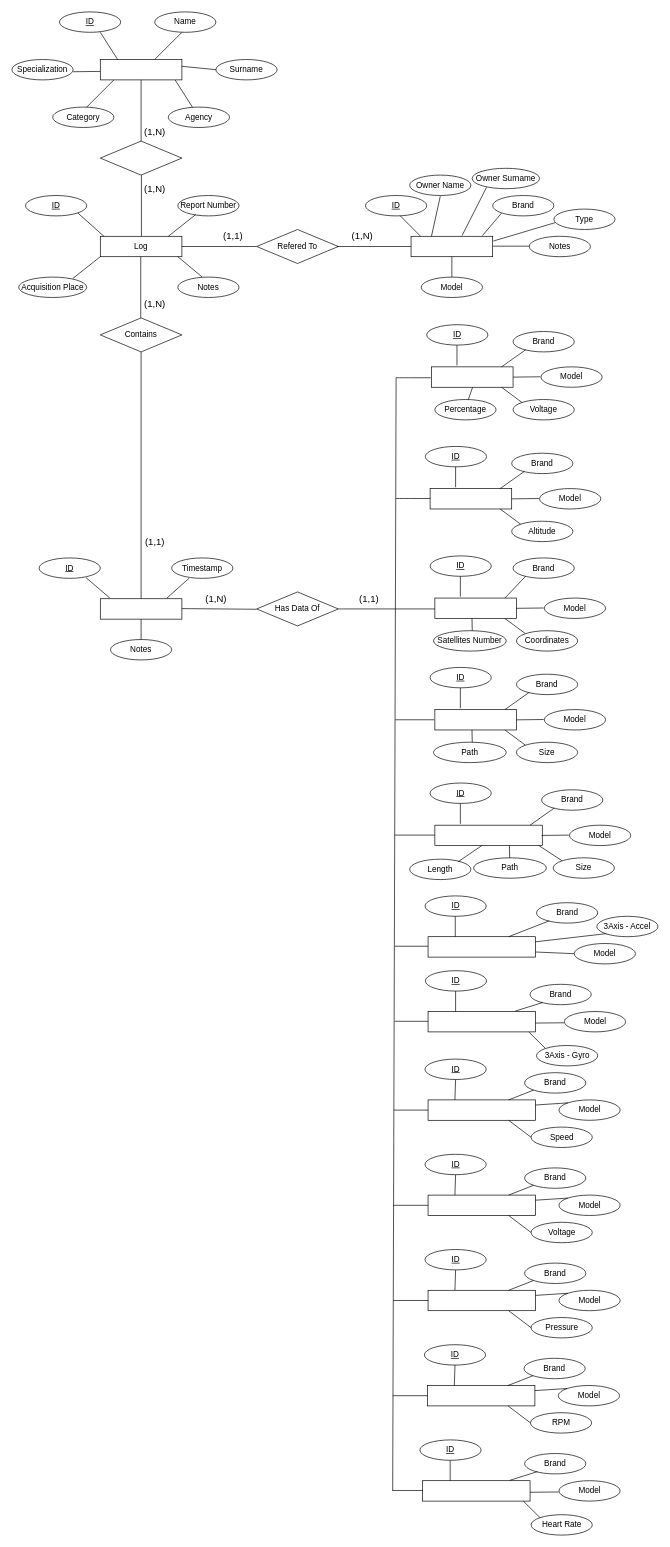
This 670x1547 diagram has some shape labels left out. The box of each missing label's shape, as (x1, y1, x2, y2) in pixels:
Accelerometer: (427, 936, 536, 957)
Acquired By: (100, 140, 182, 175)
Barometer: (429, 488, 512, 509)
Battery: (431, 366, 513, 387)
Brake Sensor: (427, 1290, 536, 1311)
Device: (410, 236, 493, 257)
Digital Investigator: (100, 59, 182, 80)
GPS: (434, 597, 516, 618)
Gyroscope: (427, 1011, 536, 1032)
Heart Rate Monitor: (422, 1480, 530, 1501)
Measurement: (100, 598, 182, 619)
Photo: (434, 709, 516, 730)
Potentiometer: (427, 1194, 536, 1216)
Tachometer: (427, 1385, 535, 1406)
Video: (434, 825, 542, 846)
Wheel Speed Sensor: (427, 1099, 536, 1120)
